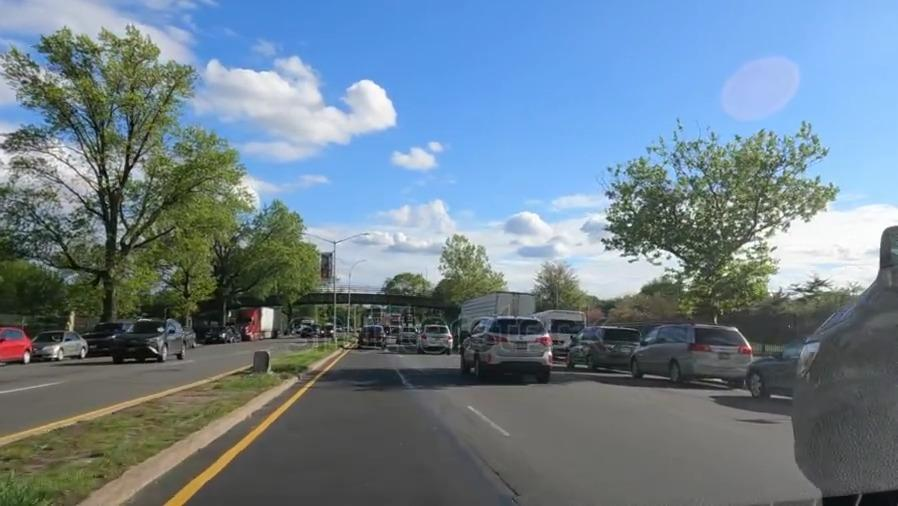car: (633, 322, 761, 388), (466, 314, 558, 378), (122, 317, 189, 365), (579, 324, 644, 366), (79, 318, 125, 358), (44, 328, 90, 361), (0, 325, 33, 364), (415, 323, 455, 354), (361, 323, 389, 346)
wheel: (808, 411, 878, 506)
